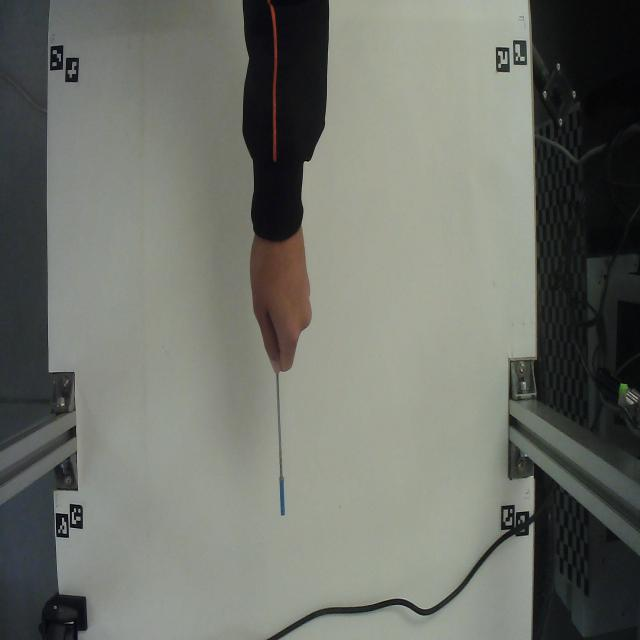NoPres: (253, 351, 302, 537)
